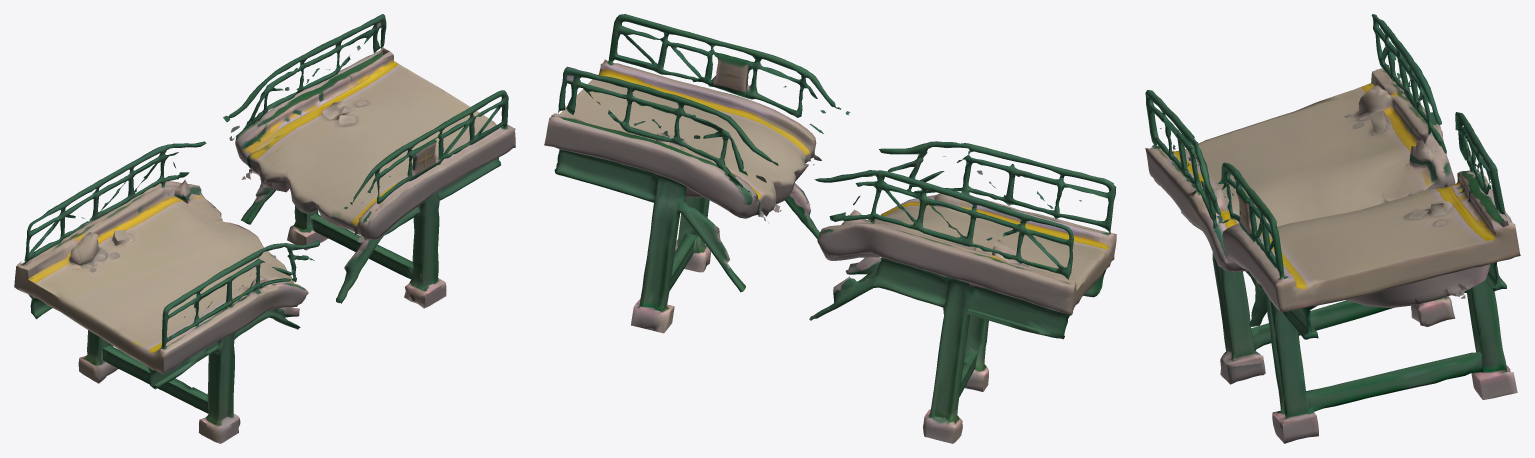
The model's file is tripo_convert_87ce8fc1-d215-44e2-b9ea-c9c667386a46.glb.
The picture shows the model from 3 angles, left to right: view 1: azimuth 30°, elevation 25°; view 2: azimuth 150°, elevation 25°; view 3: azimuth 270°, elevation 25°; orthographic projection. The views are drawn at different scales.
Parts seen in each view (by area): view 1: tripo_node_87ce8fc1-d215-44e2-b9ea-c9c667386a46; view 2: tripo_node_87ce8fc1-d215-44e2-b9ea-c9c667386a46; view 3: tripo_node_87ce8fc1-d215-44e2-b9ea-c9c667386a46.
Part boxes in pixels (x1,y1,x2,y2): tripo_node_87ce8fc1-d215-44e2-b9ea-c9c667386a46: (14, 14, 515, 443); tripo_node_87ce8fc1-d215-44e2-b9ea-c9c667386a46: (544, 14, 1116, 443); tripo_node_87ce8fc1-d215-44e2-b9ea-c9c667386a46: (1145, 14, 1520, 443).
Bounding box in the file's own units: 0.9979 × 0.6016 × 0.5381.
1 material, 1 textured.
